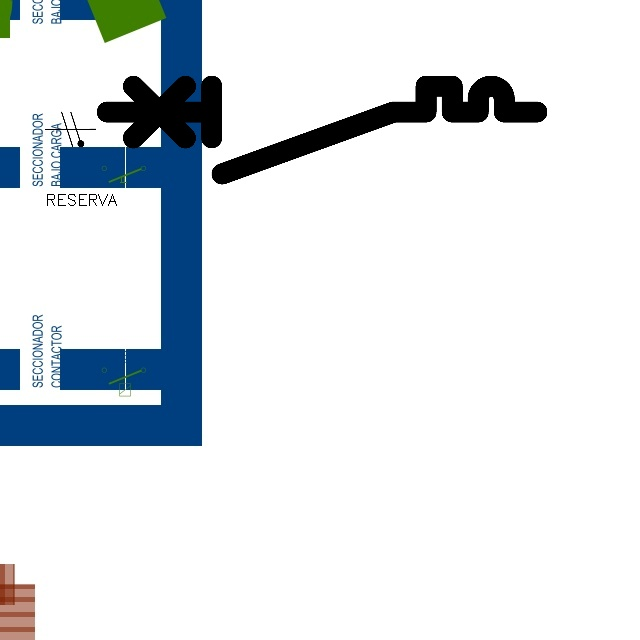interruptor_termomagnetico: (96, 75, 548, 185)
